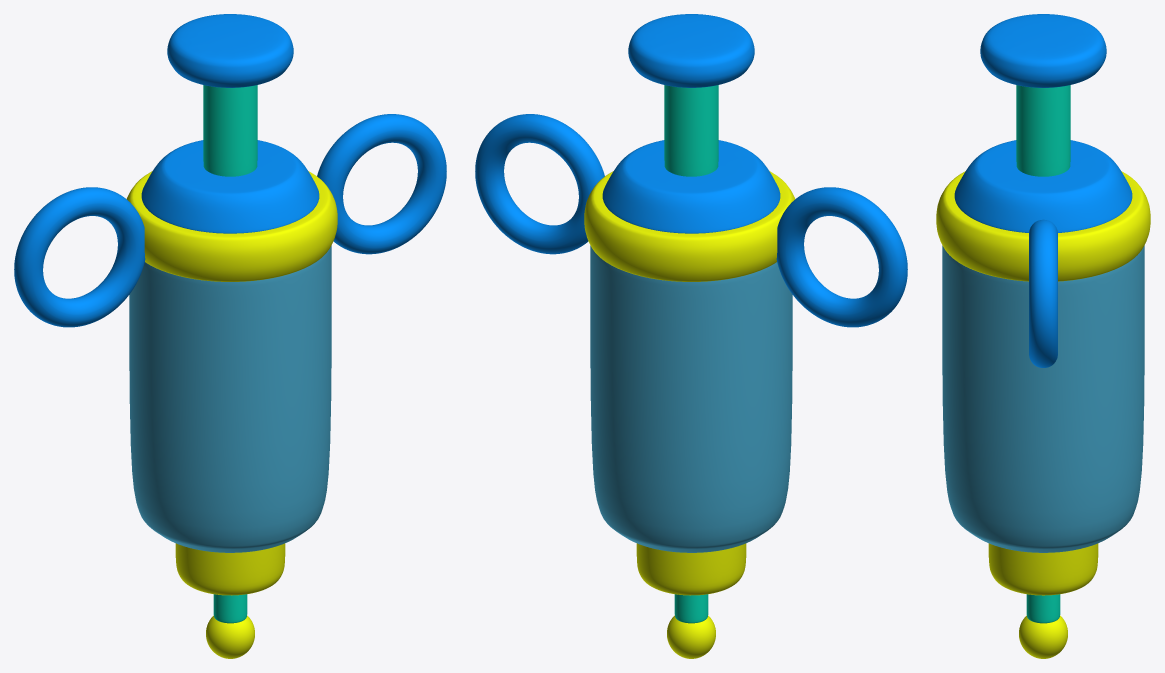
The model's file is syringe.fbx.
3 renders of one model, left to right at view 1: azimuth 30°, elevation 25°; view 2: azimuth 150°, elevation 25°; view 3: azimuth 270°, elevation 25°, orthographic.
Visible parts, largest first — view 1: Cylinder.005, Cylinder.004, Cylinder.007, Cylinder.002, Cylinder.003, Cylinder.006, Cylinder.008, Cylinder.001; view 2: Cylinder.005, Cylinder.004, Cylinder.007, Cylinder.002, Cylinder.003, Cylinder.006, Cylinder.008, Cylinder.001; view 3: Cylinder.005, Cylinder.004, Cylinder.007, Cylinder.002, Cylinder.003, Cylinder.006, Cylinder.008, Cylinder.001.
Boxes of the visible parts, x1,y1,x2,y2 form: Cylinder.005: [14, 114, 446, 552]; Cylinder.004: [141, 140, 319, 233]; Cylinder.007: [126, 171, 337, 281]; Cylinder.002: [167, 14, 293, 87]; Cylinder.003: [203, 85, 257, 176]; Cylinder.006: [175, 543, 285, 595]; Cylinder.008: [206, 615, 254, 658]; Cylinder.001: [213, 594, 247, 623]; Cylinder.005: [475, 114, 907, 552]; Cylinder.004: [602, 140, 780, 233]; Cylinder.007: [584, 171, 795, 281]; Cylinder.002: [628, 14, 754, 87]; Cylinder.003: [664, 85, 718, 176]; Cylinder.006: [636, 543, 746, 595]; Cylinder.008: [667, 615, 715, 658]; Cylinder.001: [674, 594, 708, 623]; Cylinder.005: [942, 219, 1144, 552]; Cylinder.004: [954, 140, 1132, 232]; Cylinder.007: [936, 171, 1150, 281]; Cylinder.002: [980, 14, 1106, 87]; Cylinder.003: [1016, 85, 1070, 176]; Cylinder.006: [988, 543, 1098, 595]; Cylinder.008: [1019, 615, 1067, 658]; Cylinder.001: [1026, 594, 1060, 623].
Bounding box in the file's own units: 292 × 405 × 127.
